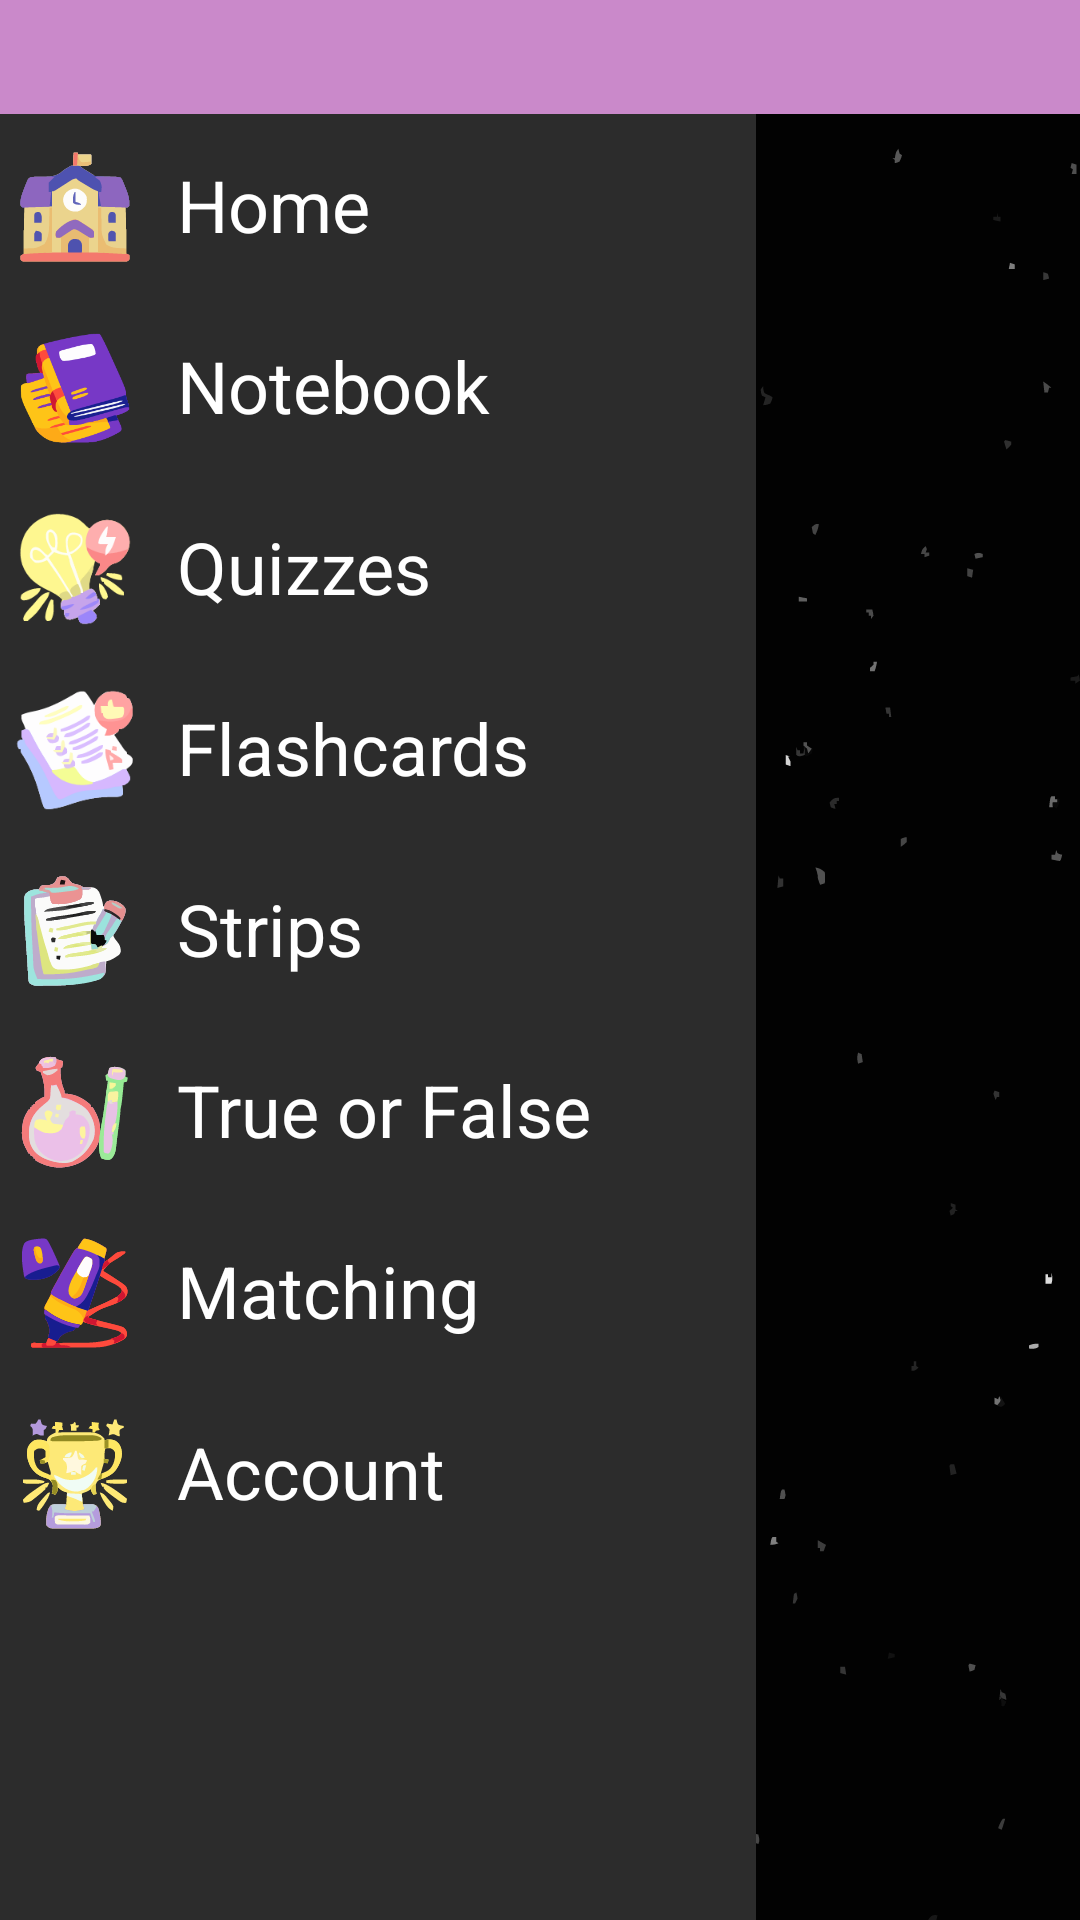

Screen size 1080x1920. Icon name, then its center in pixels as (x,y):
highlighter: (75,1293)
notes: (75,931)
